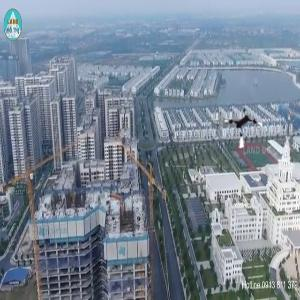drone: (222, 107, 266, 151)
